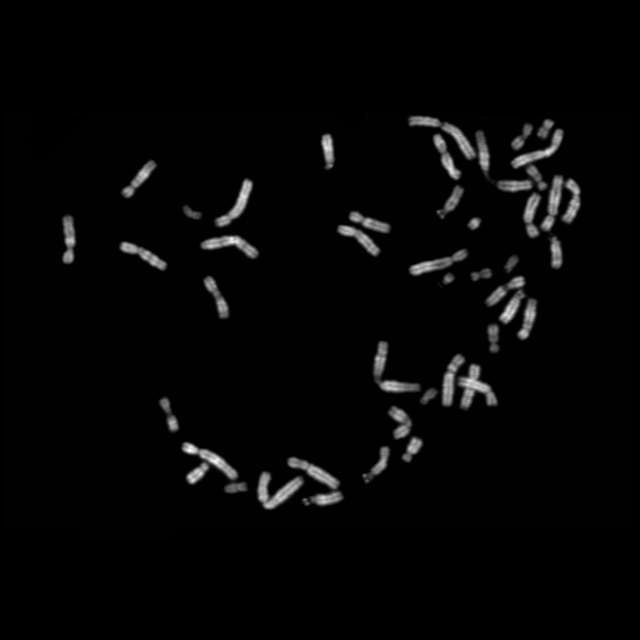chromosome: (409, 116, 477, 160), (374, 342, 421, 392), (511, 129, 564, 167), (182, 443, 236, 479), (214, 180, 252, 226), (289, 456, 339, 489), (258, 472, 302, 508), (200, 236, 258, 260), (411, 250, 467, 274), (122, 242, 166, 270), (542, 175, 564, 231), (122, 162, 156, 198), (434, 134, 461, 178), (338, 226, 379, 254), (486, 275, 524, 305), (458, 378, 498, 406), (442, 354, 464, 404), (204, 276, 228, 318), (351, 211, 391, 233), (364, 446, 388, 482), (500, 290, 524, 324), (562, 178, 580, 222), (438, 186, 462, 218), (388, 407, 412, 438), (518, 298, 536, 338), (524, 193, 540, 237), (462, 364, 478, 408), (62, 215, 76, 262), (160, 398, 178, 430), (477, 130, 489, 176), (304, 492, 342, 506), (512, 124, 532, 150), (401, 437, 421, 461), (527, 166, 547, 188), (322, 134, 334, 170), (188, 462, 208, 483), (499, 179, 531, 191), (550, 236, 562, 268), (537, 119, 553, 139), (421, 386, 437, 406), (471, 268, 492, 282), (488, 325, 498, 353), (224, 482, 246, 494), (504, 256, 518, 272), (183, 206, 199, 218), (468, 218, 482, 230), (443, 273, 455, 285)
